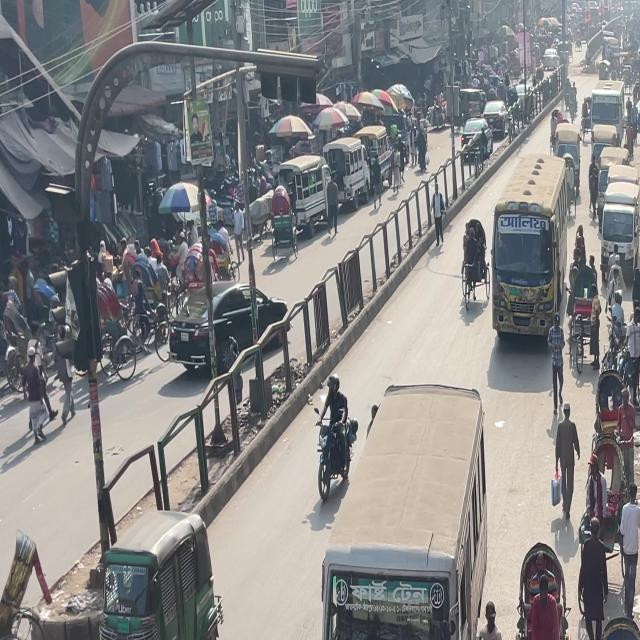bus: (98, 493, 224, 640), (317, 544, 467, 640), (487, 202, 560, 338), (583, 89, 629, 143)
van: (594, 185, 640, 272)
